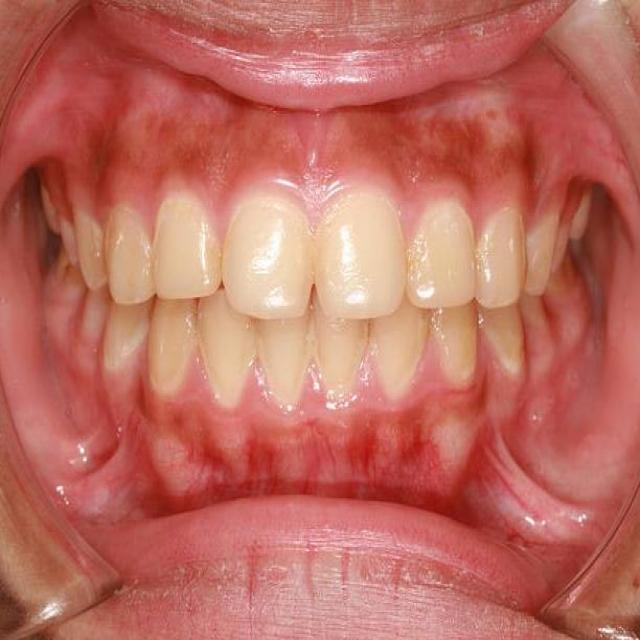Gingivitis: (180, 413, 484, 505), (366, 106, 522, 182), (106, 120, 223, 186)
